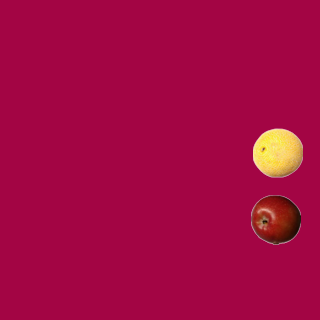Apple Braeburn: (250, 194, 300, 244)
Cantaloupe 1: (252, 127, 302, 177)
